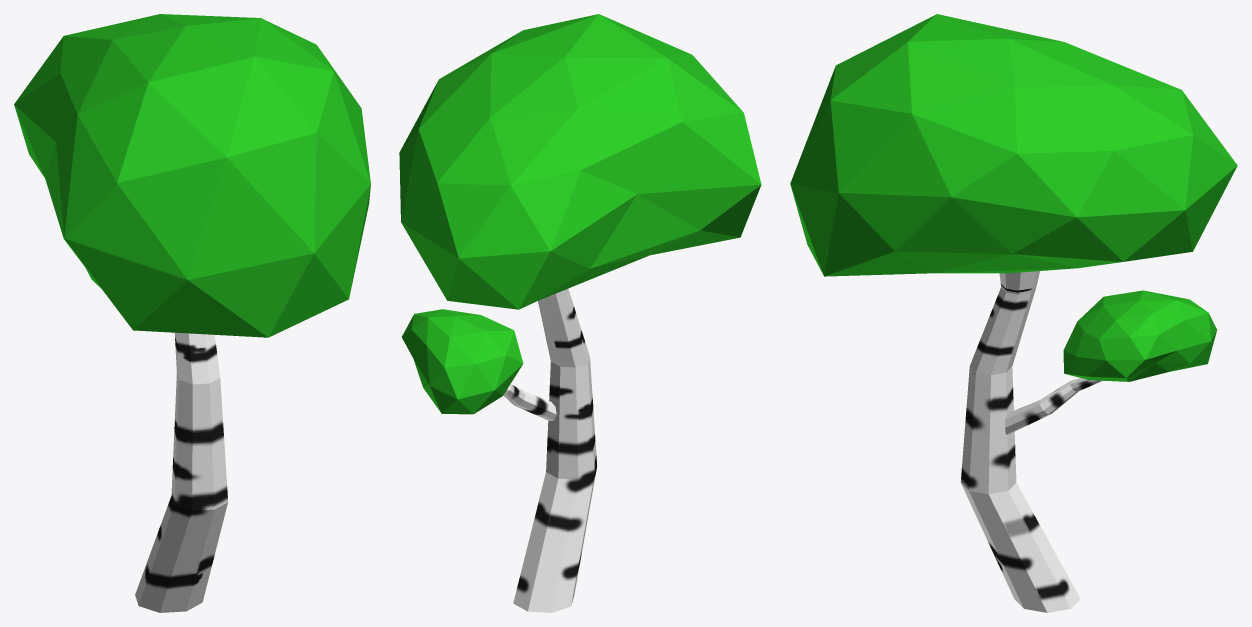
Rendered from birch.fbx.
3 views of the same model, side by side, from view 1: azimuth 30°, elevation 25°; view 2: azimuth 150°, elevation 25°; view 3: azimuth 270°, elevation 25° (orthographic). The views are drawn at different scales.
Parts seen in each view (by area): view 1: birch; view 2: birch; view 3: birch.
Boxes of the visible parts, box(x1,y1,x2,y2) form: birch: box(14, 14, 370, 612); birch: box(399, 14, 761, 612); birch: box(790, 14, 1237, 612).
Bounding box in the file's own units: 248 × 443 × 319.
Materials: 1 (1 with a texture image).
